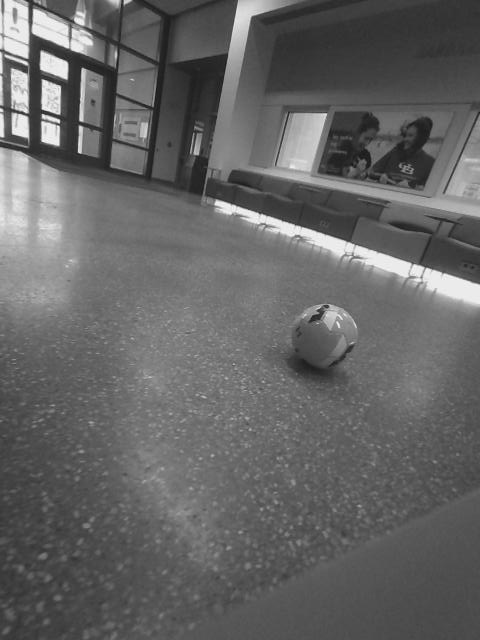ball: (283, 295, 370, 384)
